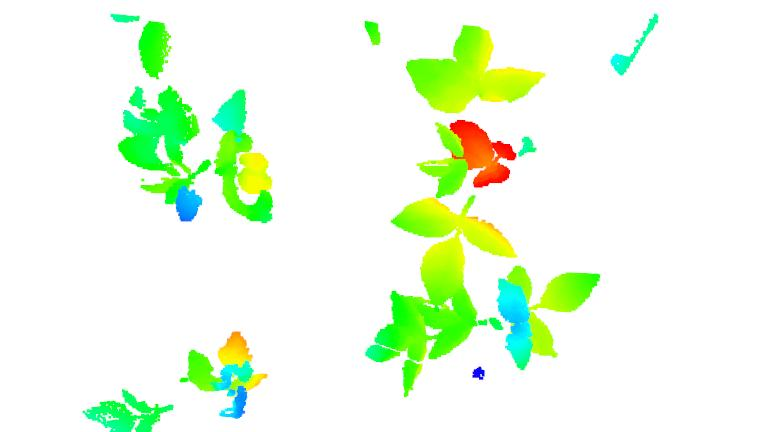mungbean: (399, 27, 544, 297), (370, 270, 599, 394), (107, 71, 278, 224), (75, 327, 275, 432)
